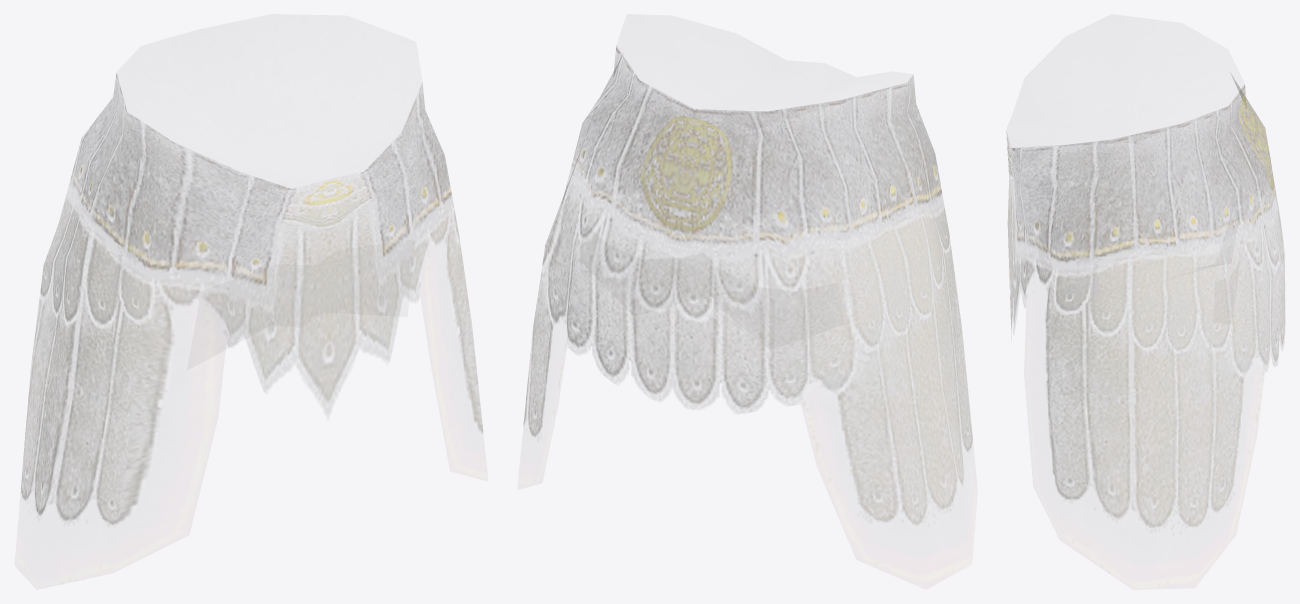
The model's file is light_03_la.glb.
The picture shows the model from 3 angles, left to right: view 1: azimuth 30°, elevation 25°; view 2: azimuth 150°, elevation 25°; view 3: azimuth 270°, elevation 25°; orthographic projection. The views are drawn at different scales.
Visible parts, largest first — view 1: Light_03_la; view 2: Light_03_la; view 3: Light_03_la.
Part boxes in pixels (x1,y1,x2,y2): Light_03_la: [21, 73, 482, 525]; Light_03_la: [523, 46, 972, 525]; Light_03_la: [1006, 73, 1284, 527].
Bounding box in the file's own units: 0.4203 × 0.4282 × 0.2562.
1 material, 1 textured.
